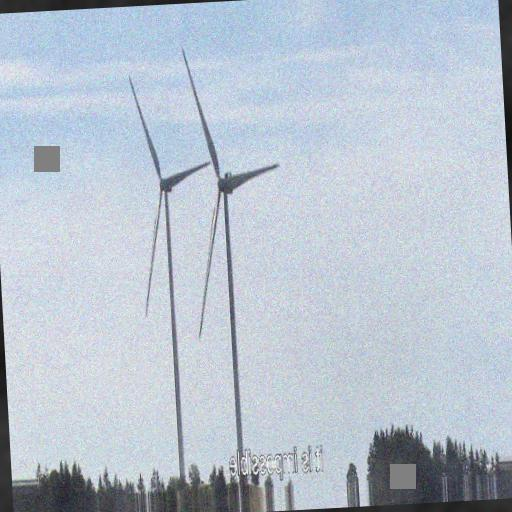wind turbine: (181, 47, 282, 483), (125, 74, 210, 490)
